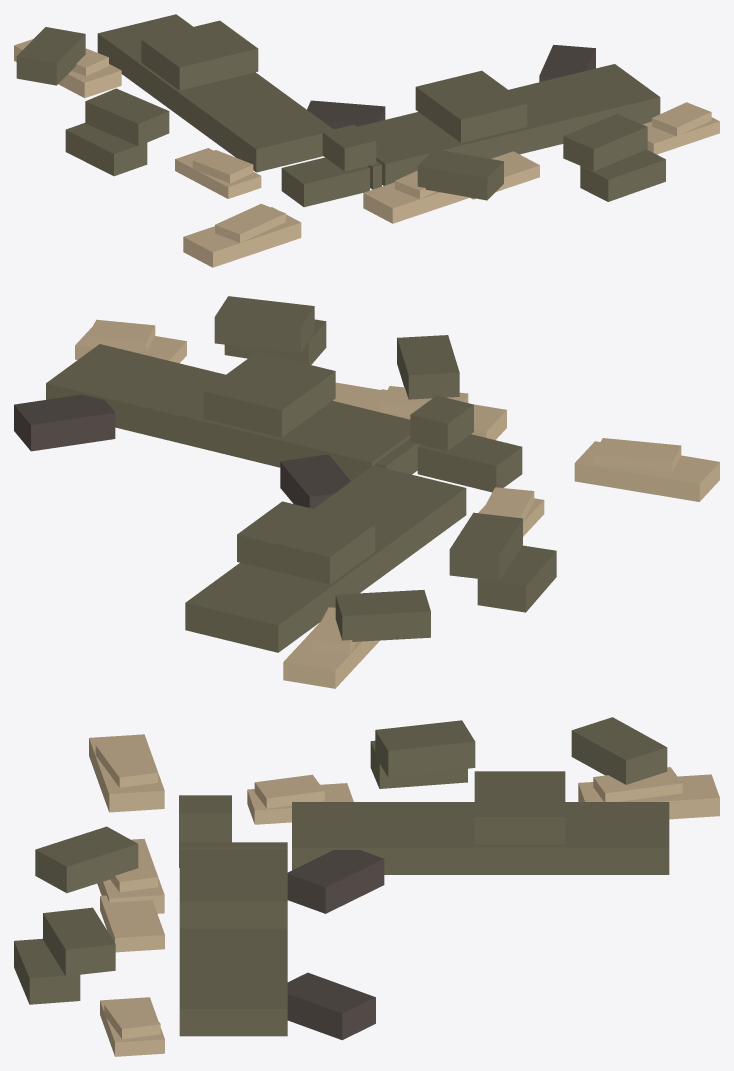
Rendered from SM_SacosEsquina_v1_Talud_e2_MuyDanado_LOD1.fbx.
3 views of the same model, one above another, from view 1: azimuth 30°, elevation 25°; view 2: azimuth 150°, elevation 25°; view 3: azimuth 270°, elevation 25° (orthographic). The views are drawn at different scales.
Parts seen in each view (by area): view 1: SM_sacos_piezas_v6_LOD1; view 2: SM_sacos_piezas_v6_LOD1; view 3: SM_sacos_piezas_v6_LOD1.
Part boxes in pixels (x1,y1,x2,y2): SM_sacos_piezas_v6_LOD1: (14,14,719,267); SM_sacos_piezas_v6_LOD1: (14,296,719,688); SM_sacos_piezas_v6_LOD1: (14,717,719,1056).
Bounding box in the file's own units: 6.41 × 0.585 × 6.29.
